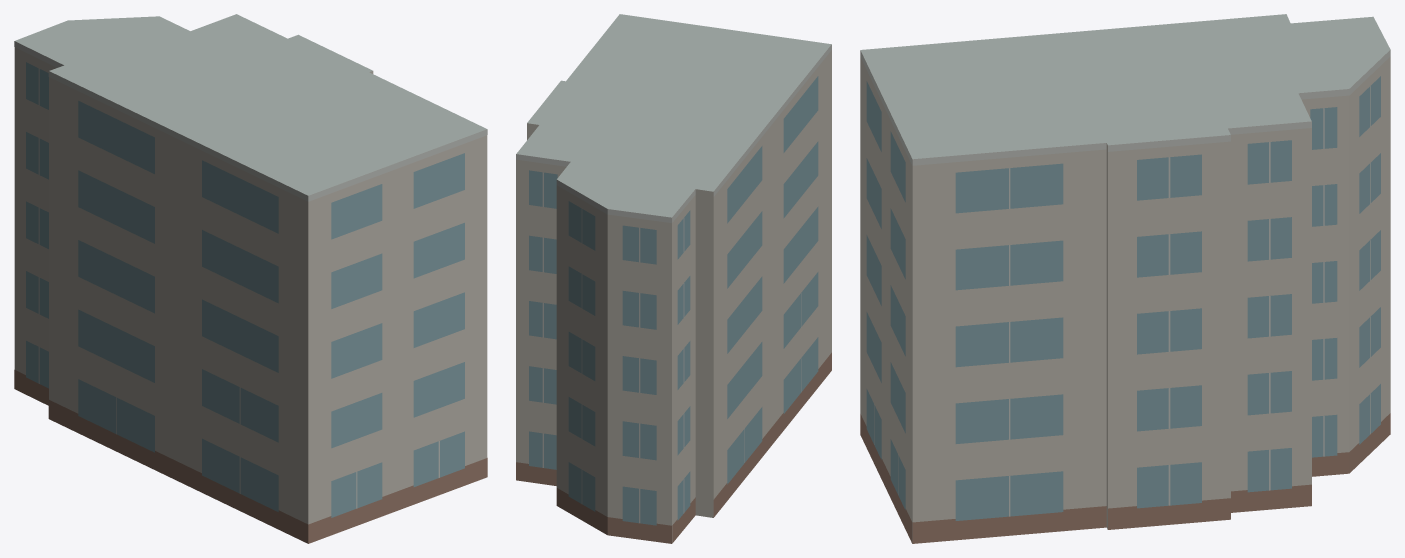
The model's file is survey-upis-32493746.glb.
3 renders of one model, left to right at view 1: azimuth 30°, elevation 25°; view 2: azimuth 150°, elevation 25°; view 3: azimuth 270°, elevation 25°, orthographic. The views are drawn at different scales.
Parts seen in each view (by area): view 1: survey-upis-32493746.tmp; view 2: survey-upis-32493746.tmp; view 3: survey-upis-32493746.tmp.
Boxes of the visible parts, x1=… form: survey-upis-32493746.tmp: x1=14, y1=14, x2=487, y2=543; survey-upis-32493746.tmp: x1=516, y1=14, x2=831, y2=543; survey-upis-32493746.tmp: x1=860, y1=14, x2=1390, y2=543.
Bounding box in the file's own units: 11.51 × 14.2 × 17.75.
